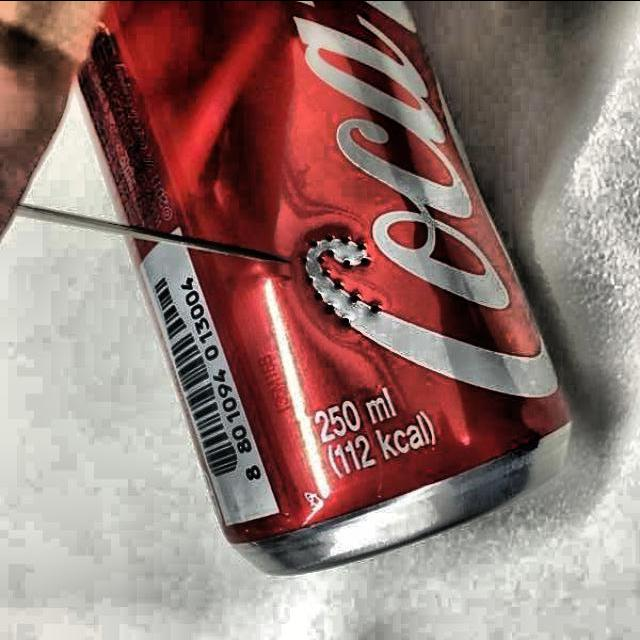Aluminum Can: (42, 0, 580, 582)
